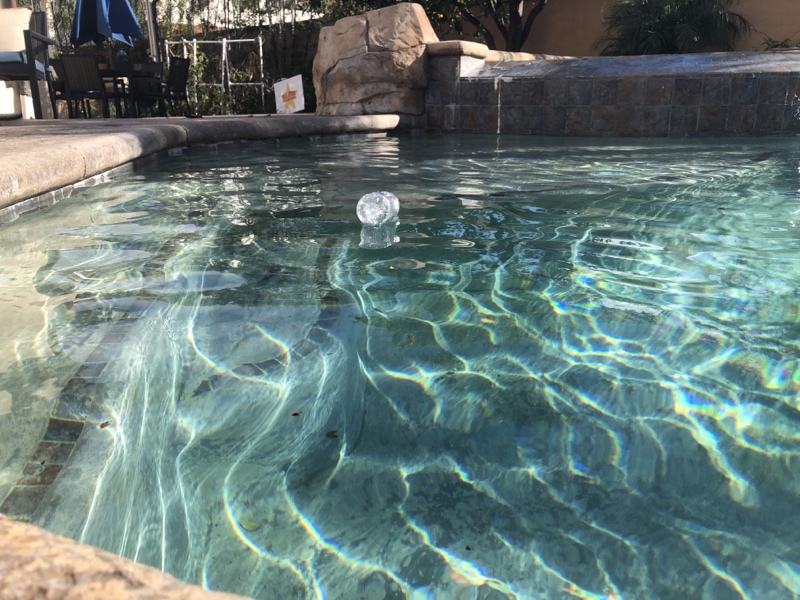Plastic Bottle: (354, 188, 401, 231)
